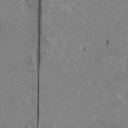surface scratch: (36, 0, 42, 128), (106, 40, 109, 45)
